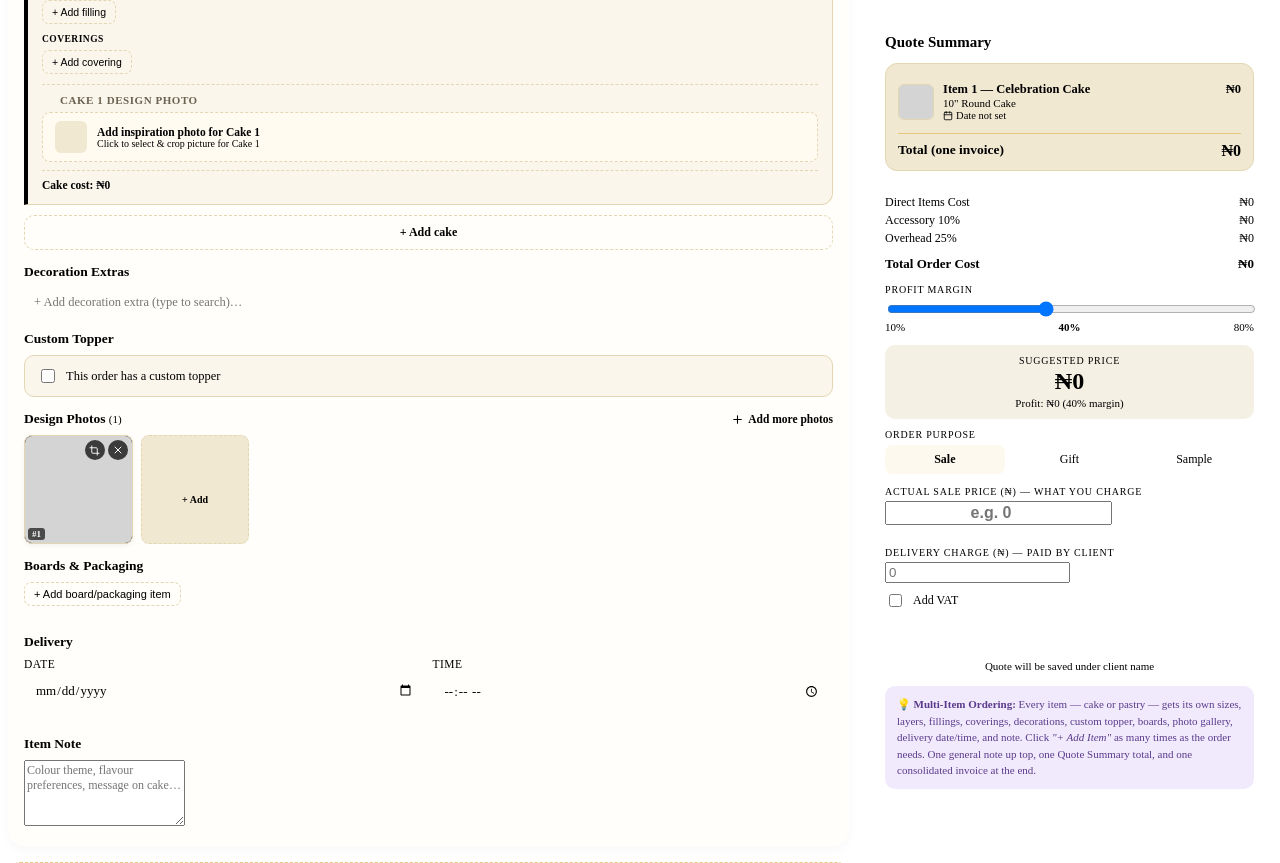
Test: OrderCalculator Multi-Item Tests › should provide photo crop controls for uploaded inspiration images
(page scrolled)
Note: Click to open the crop modal
Click the button titled "Crop / adjust photo": (95, 450) [85,440,105,460]
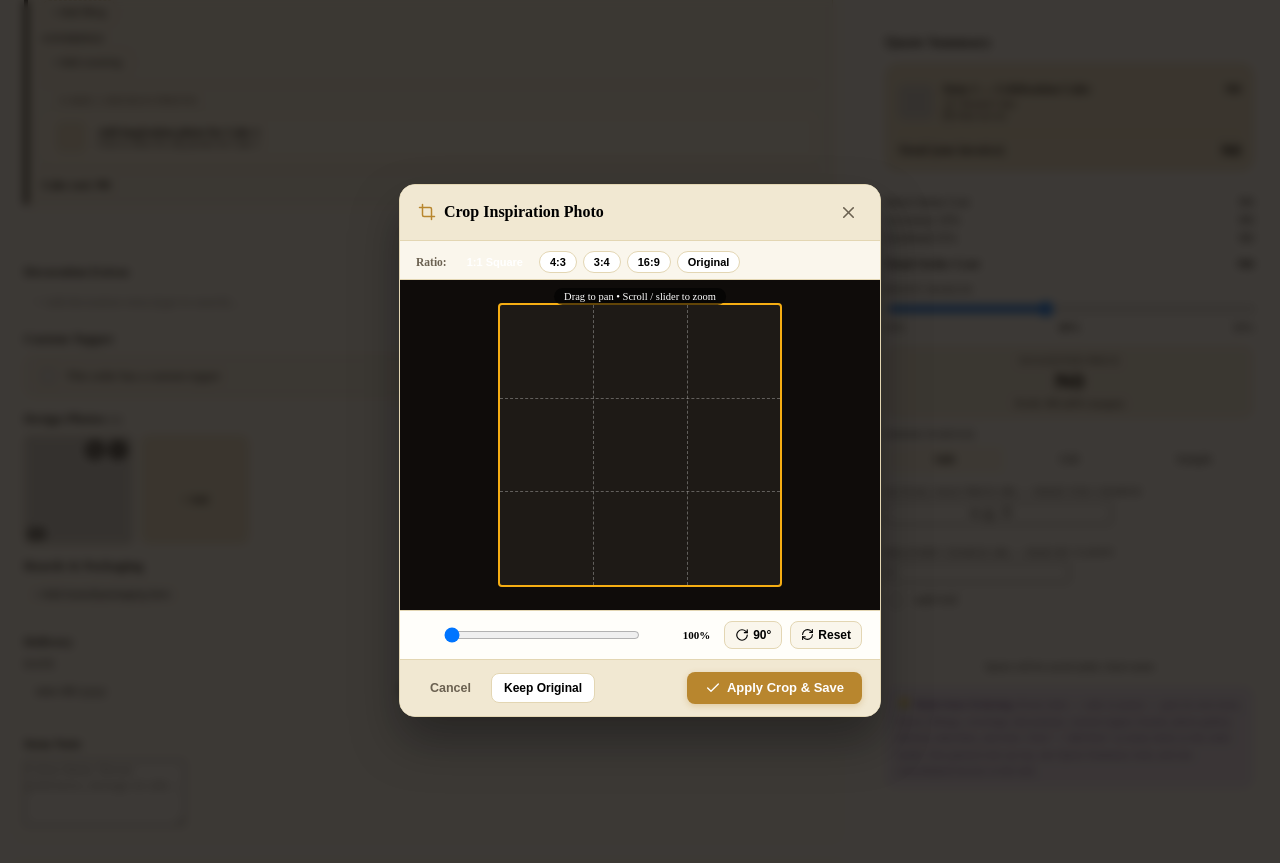
Check: the text "Crop Inspiration Photo" is shown, box [444,203,604,221]
Check: the text "Apply Crop & Save" is shown, box [687,672,862,704]
Check: the text "Keep Original" is shown, box [491,672,595,702]
